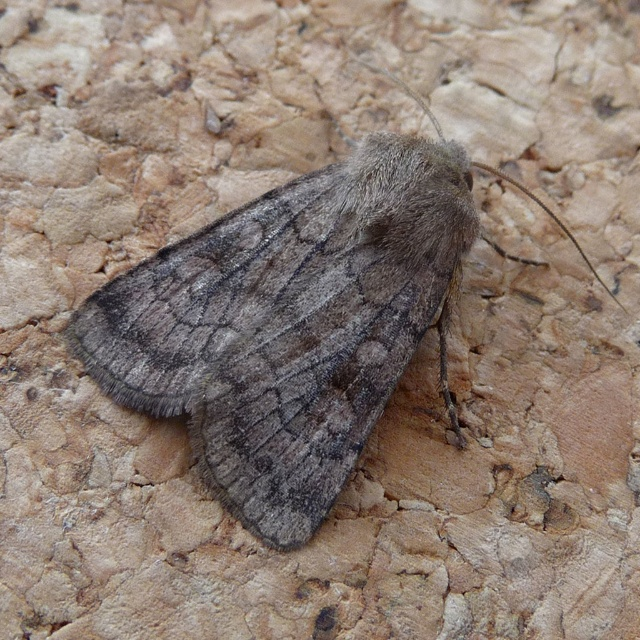Moths and butterflies: (58, 52, 634, 556)
